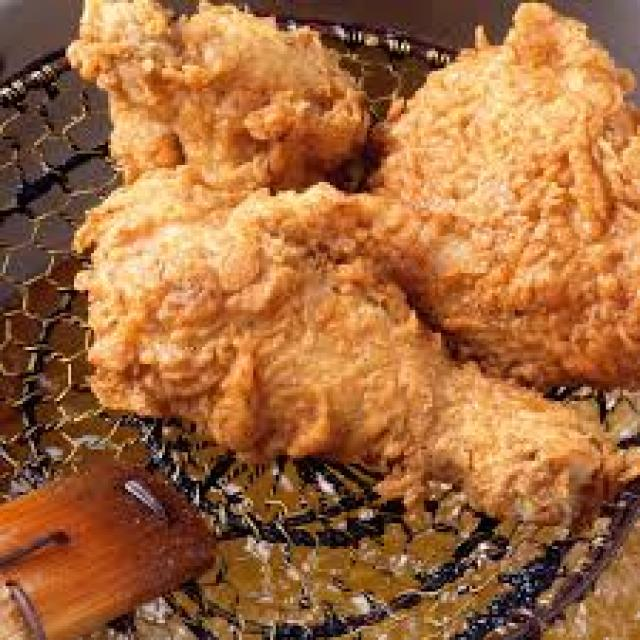Frango: (71, 3, 640, 560)
